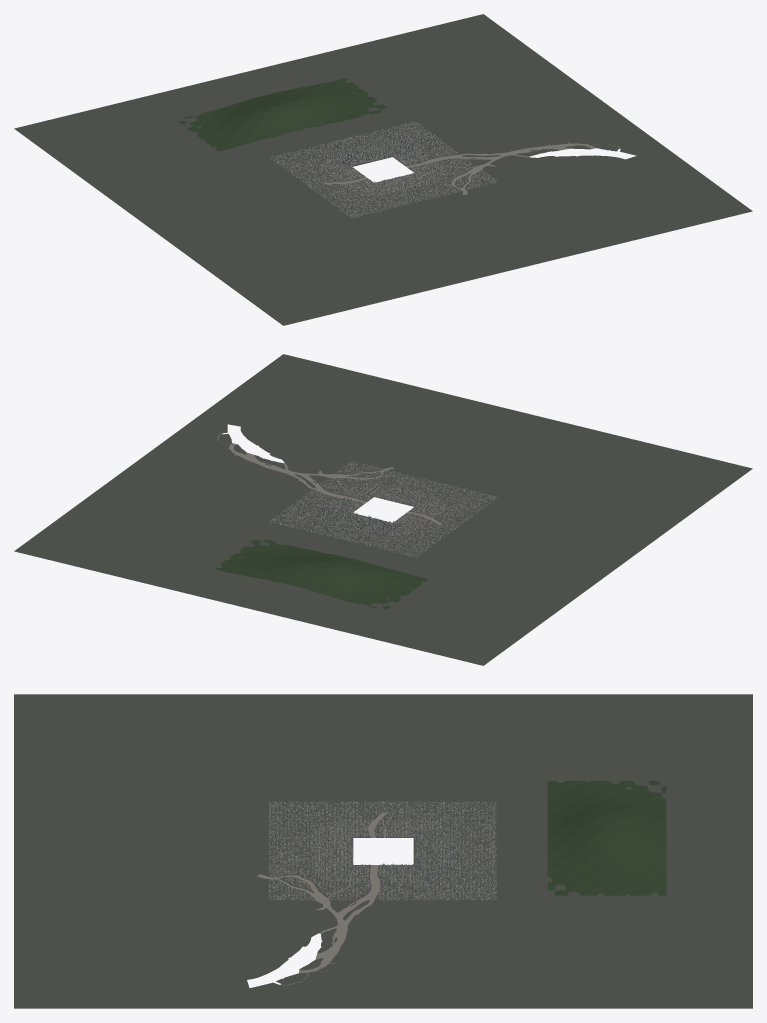
Rendered from backdrop.glb.
3 renders of one model, top to bottom at view 1: azimuth 30°, elevation 25°; view 2: azimuth 150°, elevation 25°; view 3: azimuth 270°, elevation 25°, orthographic. The views are drawn at different scales.
Parts seen in each view (by area): view 1: Backdrop | far ground, Backdrop | Baiyun Mountain; view 2: Backdrop | far ground, Backdrop | Baiyun Mountain; view 3: Backdrop | far ground, Backdrop | Baiyun Mountain.
Part boxes in pixels (x1,y1,x2,y2): Backdrop | far ground: [14, 14, 752, 325]; Backdrop | Baiyun Mountain: [178, 78, 386, 151]; Backdrop | far ground: [14, 354, 752, 665]; Backdrop | Baiyun Mountain: [214, 539, 428, 609]; Backdrop | far ground: [14, 694, 752, 1008]; Backdrop | Baiyun Mountain: [547, 780, 666, 895].
Bounding box in the file's own units: 43788 × 797 × 43538.
